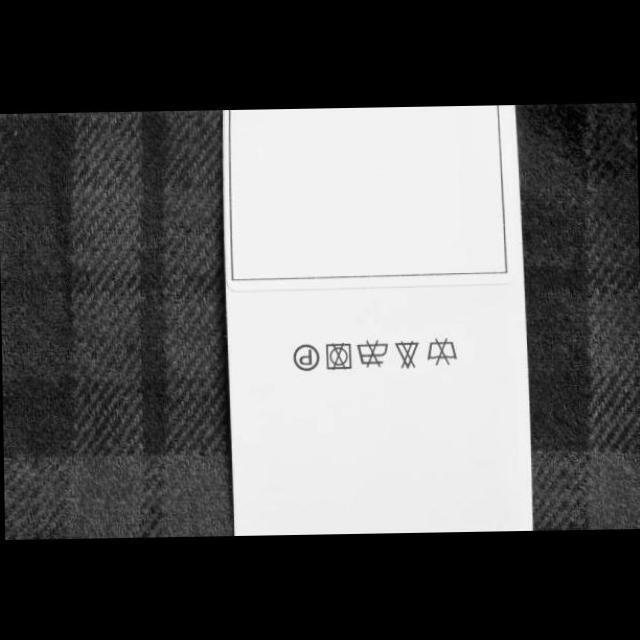DN_bleach: (391, 337, 420, 370)
DN_iron: (355, 336, 388, 366)
DN_tumble_dry: (322, 339, 352, 372)
DN_wash: (424, 334, 456, 366)
normal_dry_clean_solvents: (291, 339, 320, 372)
